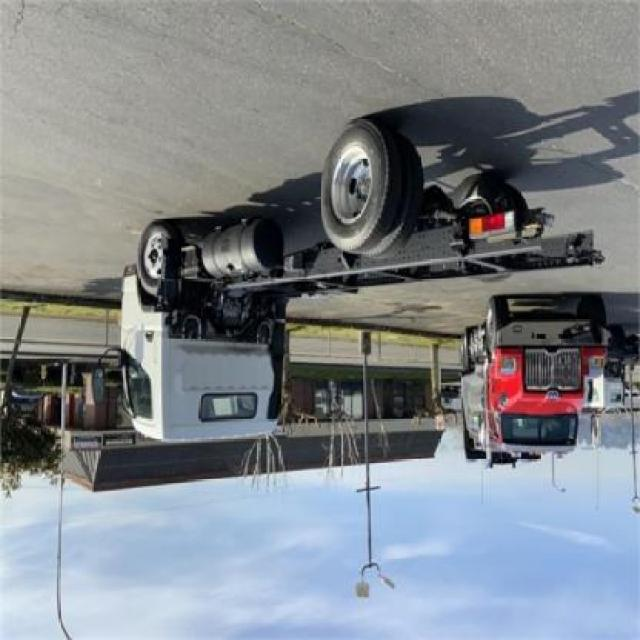truck: (118, 102, 606, 449), (457, 296, 613, 475)
